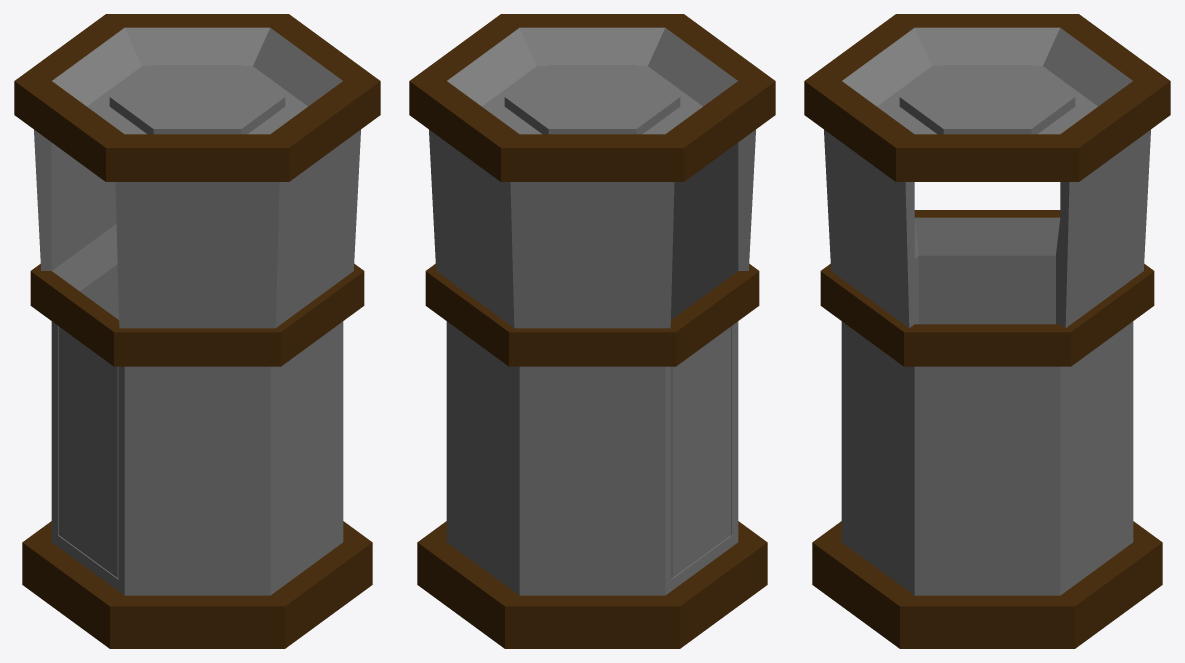
Rendered from Trash Can 4.fbx.
3 views of the same model, side by side, from view 1: azimuth 30°, elevation 25°; view 2: azimuth 150°, elevation 25°; view 3: azimuth 270°, elevation 25° (orthographic).
Parts seen in each view (by area): view 1: Trash Can 4; view 2: Trash Can 4; view 3: Trash Can 4.
Part boxes in pixels (x1,y1,x2,y2): Trash Can 4: [14, 14, 380, 648]; Trash Can 4: [409, 14, 775, 648]; Trash Can 4: [804, 14, 1170, 648].
Bounding box in the file's own units: 0.6904 × 0.7972 × 1.21.
